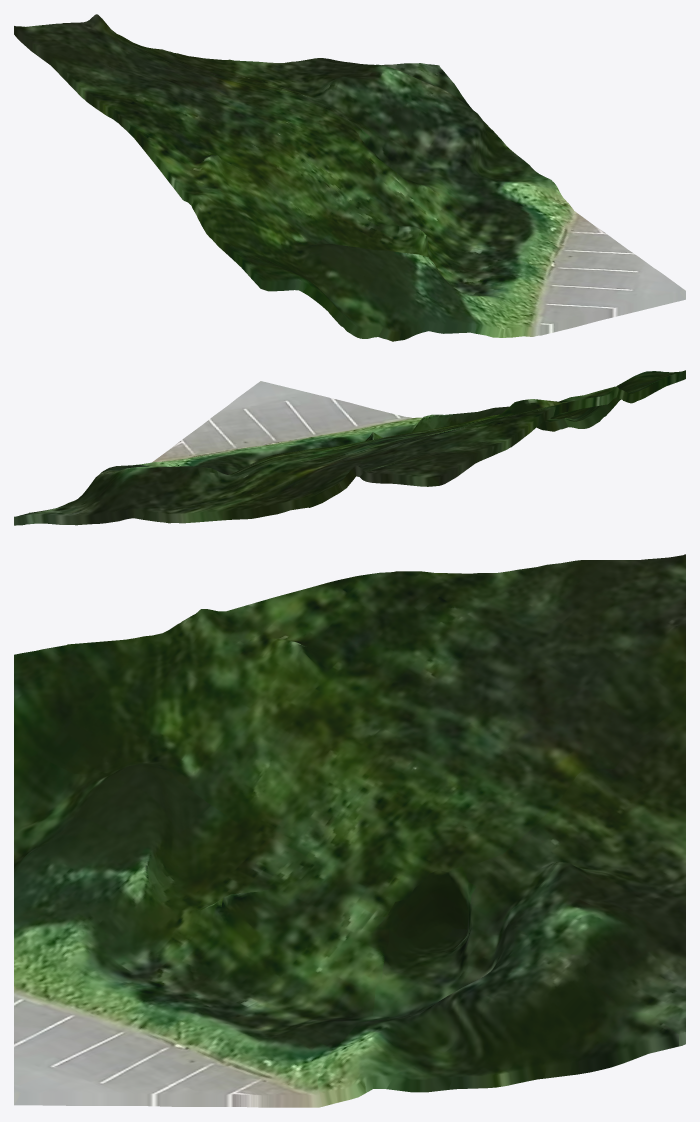
Rendered from z20-167567-405178-h0-yup-uvflip-v3-world.glb.
The picture shows the model from 3 angles, top to bottom: view 1: azimuth 30°, elevation 25°; view 2: azimuth 150°, elevation 25°; view 3: azimuth 270°, elevation 25°; orthographic projection. The views are drawn at different scales.
Size of the model in its own units: 30.16 by 13.48 by 30.32.
Materials: 1 (1 with a texture image).
